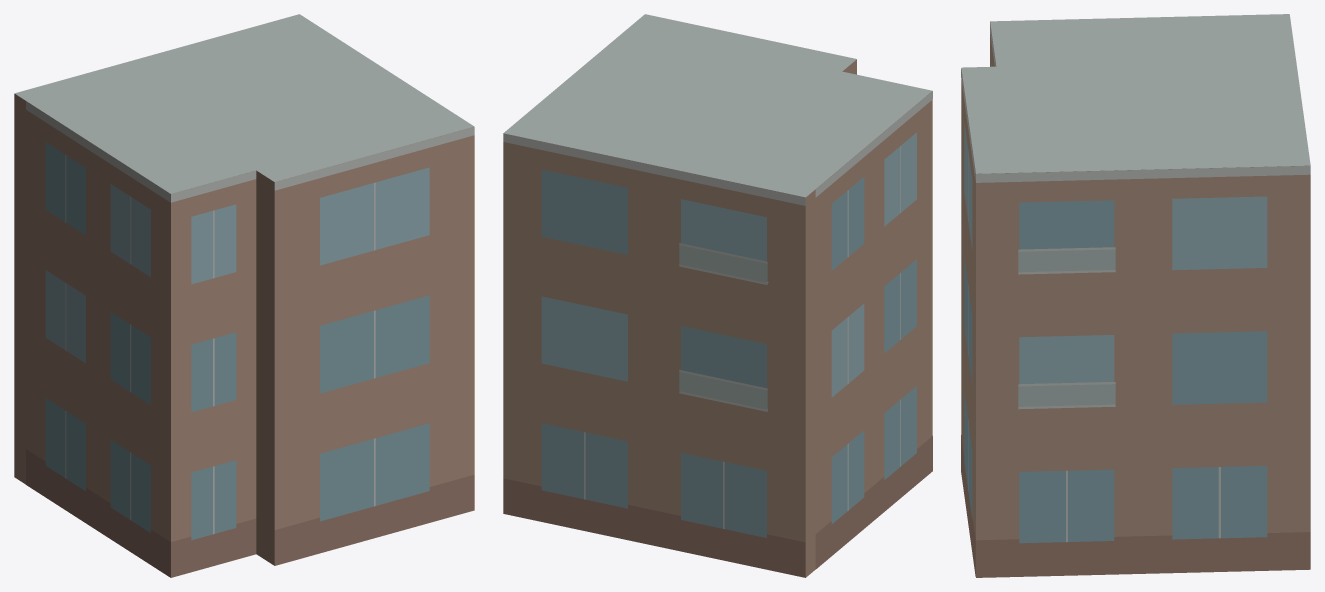
The model's file is survey-upis-32477160.glb.
3 views of the same model, side by side, from view 1: azimuth 30°, elevation 25°; view 2: azimuth 150°, elevation 25°; view 3: azimuth 270°, elevation 25° (orthographic). The views are drawn at different scales.
Visible parts, largest first — view 1: survey-upis-32477160.tmp; view 2: survey-upis-32477160.tmp; view 3: survey-upis-32477160.tmp.
Part boxes in pixels (box(x1,y1,x2,y2)): survey-upis-32477160.tmp: box(14, 14, 474, 577); survey-upis-32477160.tmp: box(503, 14, 932, 577); survey-upis-32477160.tmp: box(961, 14, 1310, 577).
Bounding box in the file's own units: 9.17 × 10.8 × 8.48.
